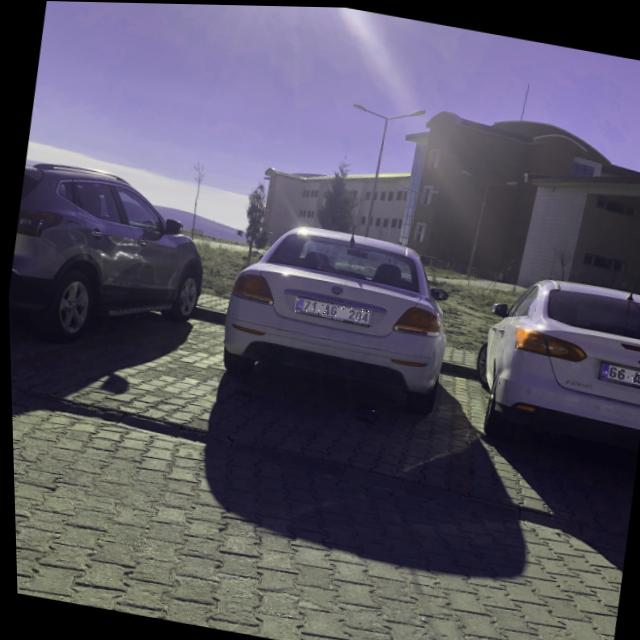license_plate: (292, 295, 370, 324), (597, 360, 640, 385)
